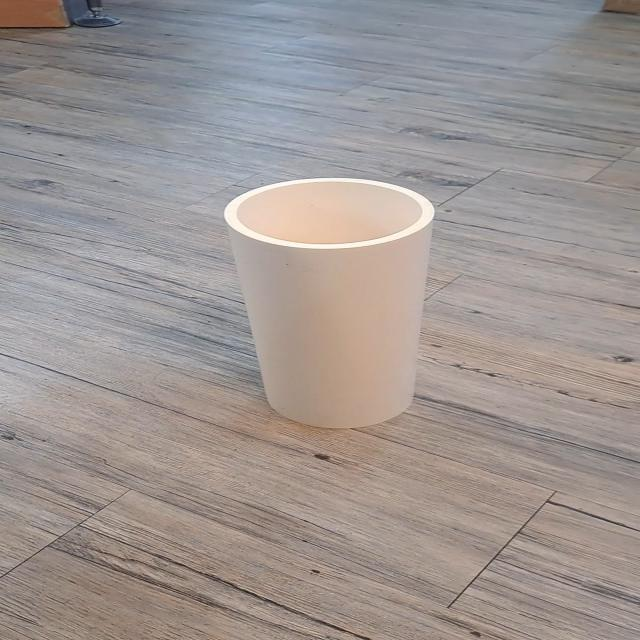CORAL: (184, 159, 506, 454)
